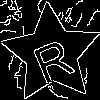R: (26, 28, 77, 86)
